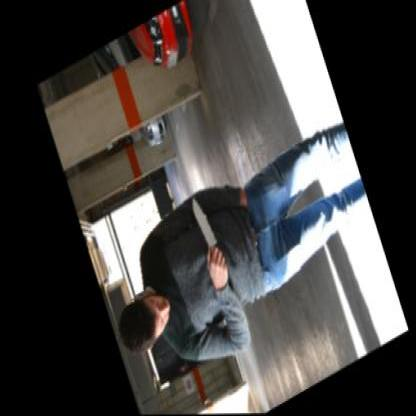knife: (182, 186, 216, 258)
